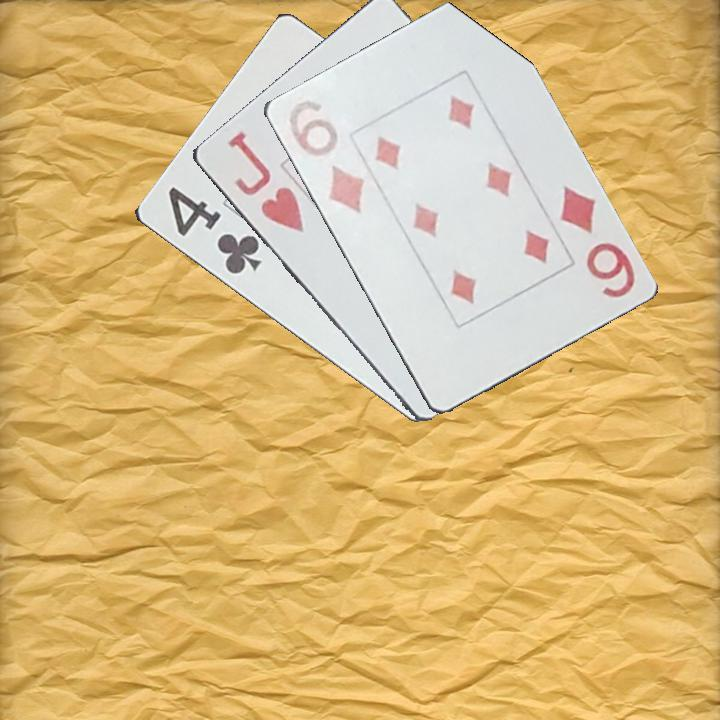4c: (163, 183, 265, 278)
6d: (284, 96, 367, 217), (556, 182, 640, 301)
Jh: (223, 127, 307, 235)
